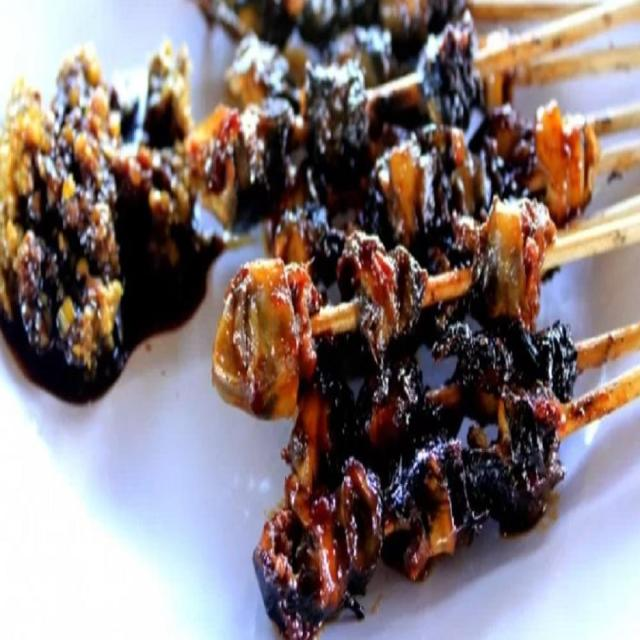Sate: (147, 43, 624, 585)
